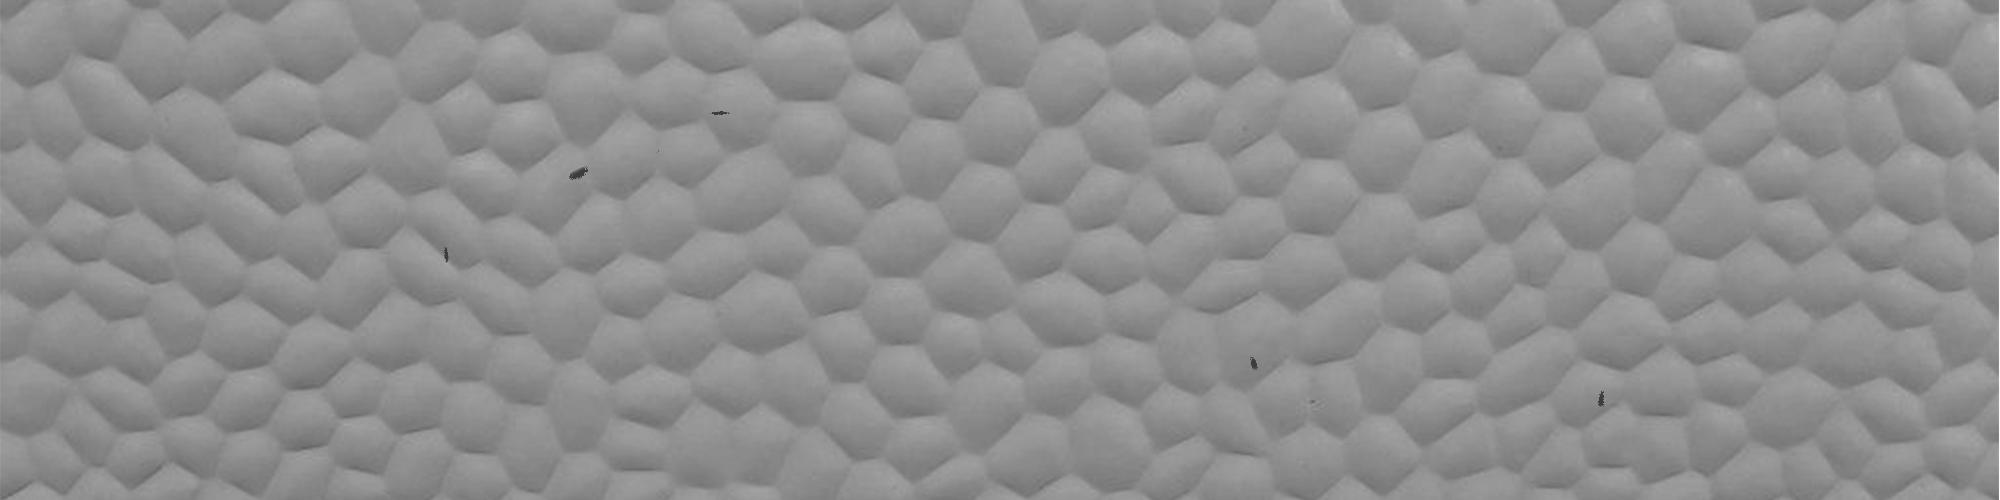Decomposed: (1582, 385, 1619, 416), (564, 161, 599, 187), (1244, 348, 1270, 374), (440, 244, 458, 270), (707, 106, 733, 119), (1307, 401, 1329, 413)
